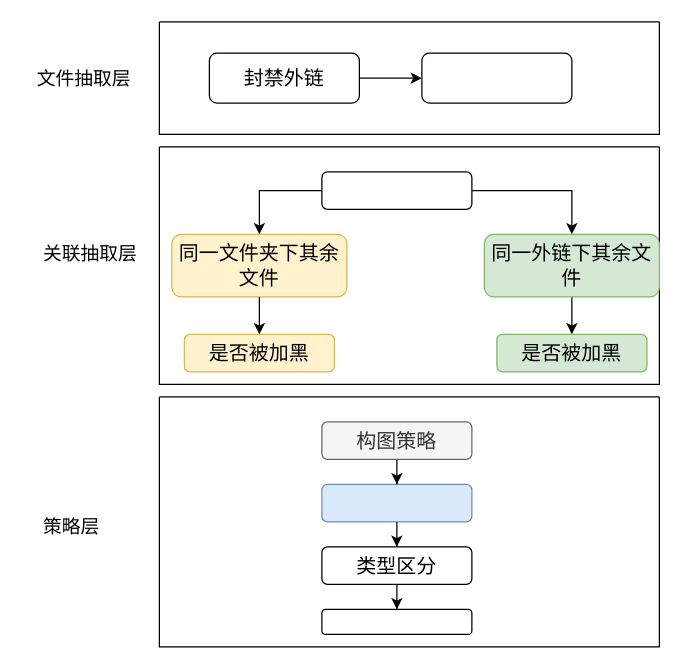
Some shapes in this 681 by 669 pixel diagram are drawn without their labels. The shapes that lost their labels are listed below. From the top down, each one's centre as x and y in pixels, then its label:
(496,77): 外链中加黑文件
(396,190): 文件溯源
(396,502): 文件名策略
(396,621): 结果预测
